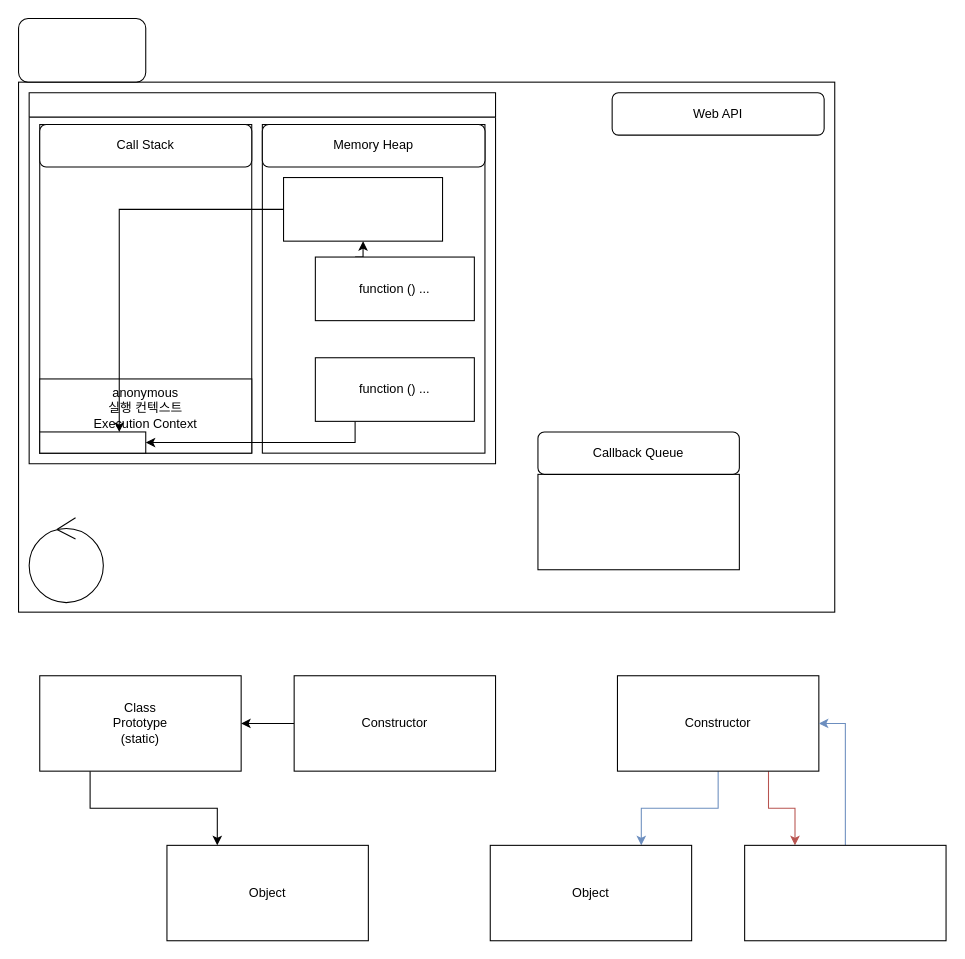
This 965x959 diagram has some shape labels left out. The shapes that lost their labels are listed below. From the top down, each one's centre as x and y in pixels, then its label:
[81,49]: JS Runtime
[362,208]: { temp }
[262,278]: Javascript Engine
[92,442]: const temp
[65,560]: Event Loop
[845,892]: new Object (public / private)
